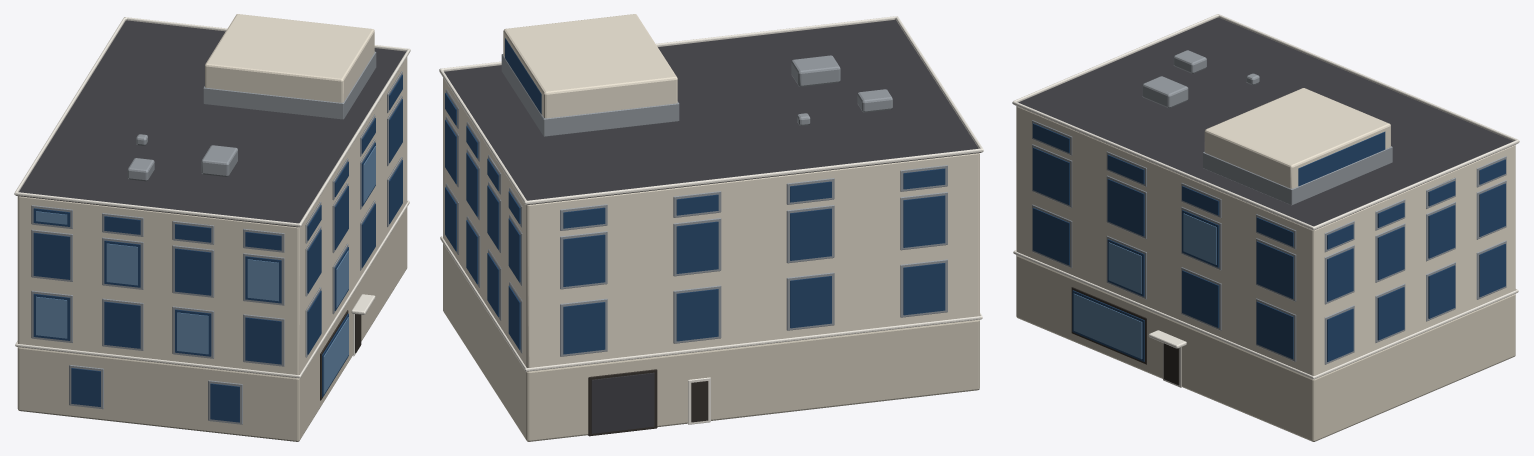
Rendered from 188-south-park.optimized.glb.
3 renders of one model, left to right at view 1: azimuth 30°, elevation 25°; view 2: azimuth 150°, elevation 25°; view 3: azimuth 270°, elevation 25°, orthographic. The views are drawn at different scales.
Parts seen in each view (by area): view 1: grp_Toy_sand, grp_Toy_roofd, body_base, grp_Toy_glass, grp_Toy_steel, grp_Toy_glass_Glow, grp_Toy_trim, grp_Toy_ink; view 2: grp_Toy_sand, grp_Toy_roofd, body_base, grp_Toy_glass, grp_Toy_steel, grp_Toy_trim, grp_Toy_ink; view 3: grp_Toy_sand, grp_Toy_roofd, body_base, grp_Toy_glass, grp_Toy_steel, grp_Toy_trim, grp_Toy_glass_Glow, grp_Toy_ink.
Part boxes in pixels (x1=…): grp_Toy_sand: x1=17, y1=14, x2=407, y2=374; grp_Toy_roofd: x1=16, y1=20, x2=405, y2=227; body_base: x1=17, y1=207, x2=407, y2=441; grp_Toy_glass: x1=33, y1=74, x2=402, y2=422; grp_Toy_steel: x1=31, y1=51, x2=402, y2=424; grp_Toy_glass_Glow: x1=36, y1=146, x2=375, y2=393; grp_Toy_trim: x1=14, y1=17, x2=410, y2=378; grp_Toy_ink: x1=320, y1=310, x2=361, y2=400; grp_Toy_sand: x1=443, y1=14, x2=979, y2=367; grp_Toy_roofd: x1=444, y1=20, x2=980, y2=433; body_base: x1=443, y1=244, x2=979, y2=441; grp_Toy_glass: x1=445, y1=38, x2=945, y2=354; grp_Toy_steel: x1=445, y1=54, x2=947, y2=356; grp_Toy_trim: x1=439, y1=16, x2=983, y2=424; grp_Toy_ink: x1=588, y1=369, x2=708, y2=436; grp_Toy_sand: x1=1016, y1=88, x2=1515, y2=375; grp_Toy_roofd: x1=1017, y1=17, x2=1513, y2=230; body_base: x1=1016, y1=255, x2=1515, y2=441; grp_Toy_glass: x1=1033, y1=123, x2=1505, y2=361; grp_Toy_steel: x1=1032, y1=50, x2=1506, y2=364; grp_Toy_trim: x1=1012, y1=14, x2=1519, y2=387; grp_Toy_glass_Glow: x1=1073, y1=213, x2=1216, y2=359; grp_Toy_ink: x1=1071, y1=287, x2=1179, y2=385.
Size of the model in its own units: 28.57 by 15.93 by 28.61.
